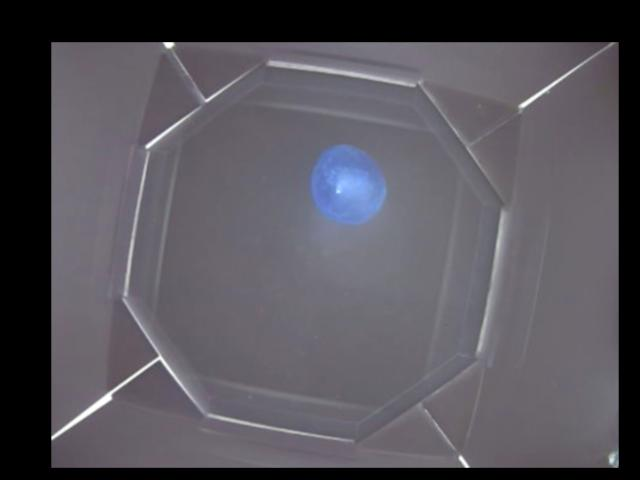Potato: (312, 143, 385, 224)
